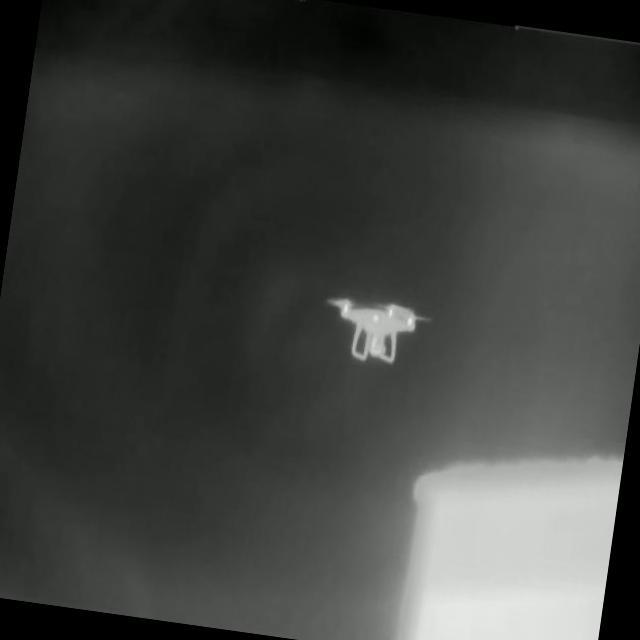DRONE: (321, 294, 435, 365)
